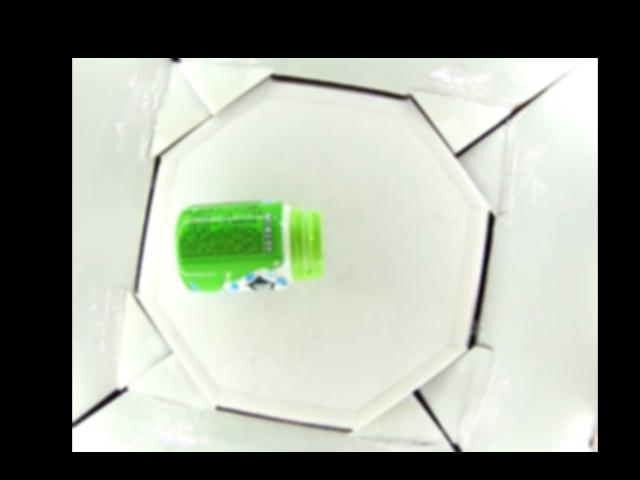Bottle: (174, 199, 321, 293)
